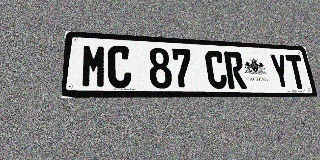7: (170, 48, 194, 88)
8: (148, 47, 172, 88)
C: (107, 45, 132, 88), (204, 50, 228, 89)
M: (81, 44, 107, 88)
R: (223, 51, 247, 89)
T: (285, 54, 308, 89)
Y: (269, 54, 292, 89)
